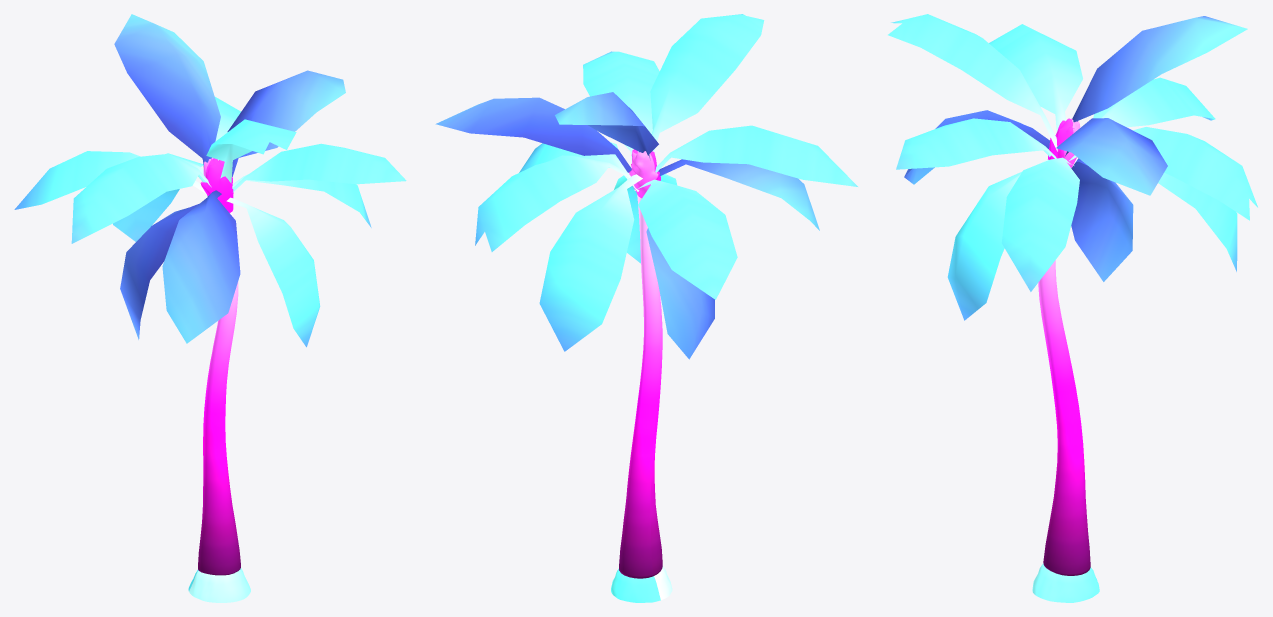
The model's file is palm-DH3djtDL.glb.
3 renders of one model, left to right at view 1: azimuth 30°, elevation 25°; view 2: azimuth 150°, elevation 25°; view 3: azimuth 270°, elevation 25°, orthographic. The views are drawn at different scales.
Visible parts, largest first — view 1: Palm_01; view 2: Palm_01; view 3: Palm_01.
Boxes of the visible parts, bbox=[...] form: Palm_01: bbox=[14, 14, 406, 602]; Palm_01: bbox=[435, 14, 857, 602]; Palm_01: bbox=[888, 14, 1257, 602].
Size of the model in its own units: 15.79 by 23.18 by 13.72.
1 material, 1 textured.
